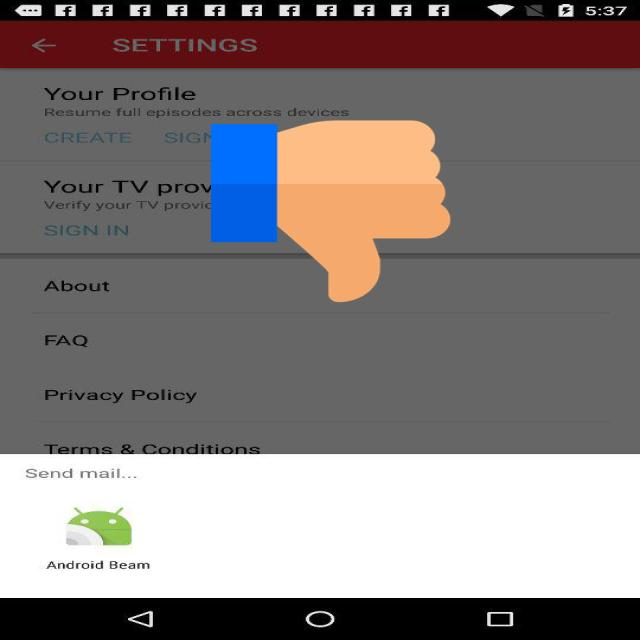obstruction: (211, 116, 450, 307)
